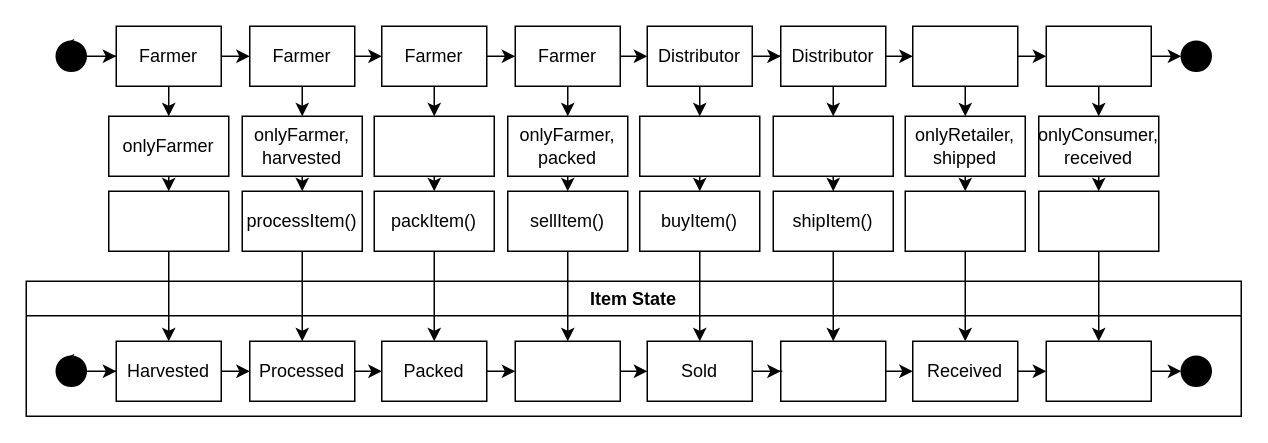
This 1268x443 diagram has some shape labels left out. The shapes that lost their labels are listed below. From the top down, each one's centre as x and y in pixels, then its label:
point (964, 55): Retailer
point (1098, 55): Consumer
point (433, 145): onlyFarmer, processed
point (699, 145): onlyDistributor, forSale
point (832, 145): onlyDistributor, sold
point (168, 220): harvestItem()
point (964, 220): receiveItem()
point (1098, 220): purchaseItem()
point (567, 370): ForSale
point (832, 370): Shipped
point (1098, 370): Purchased
